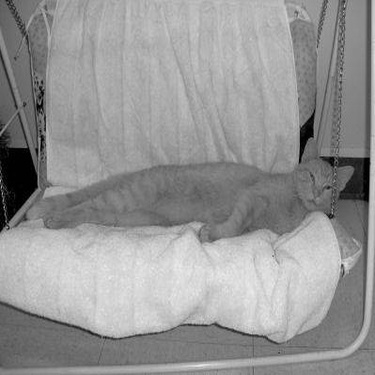cat: (1, 120, 353, 246)
